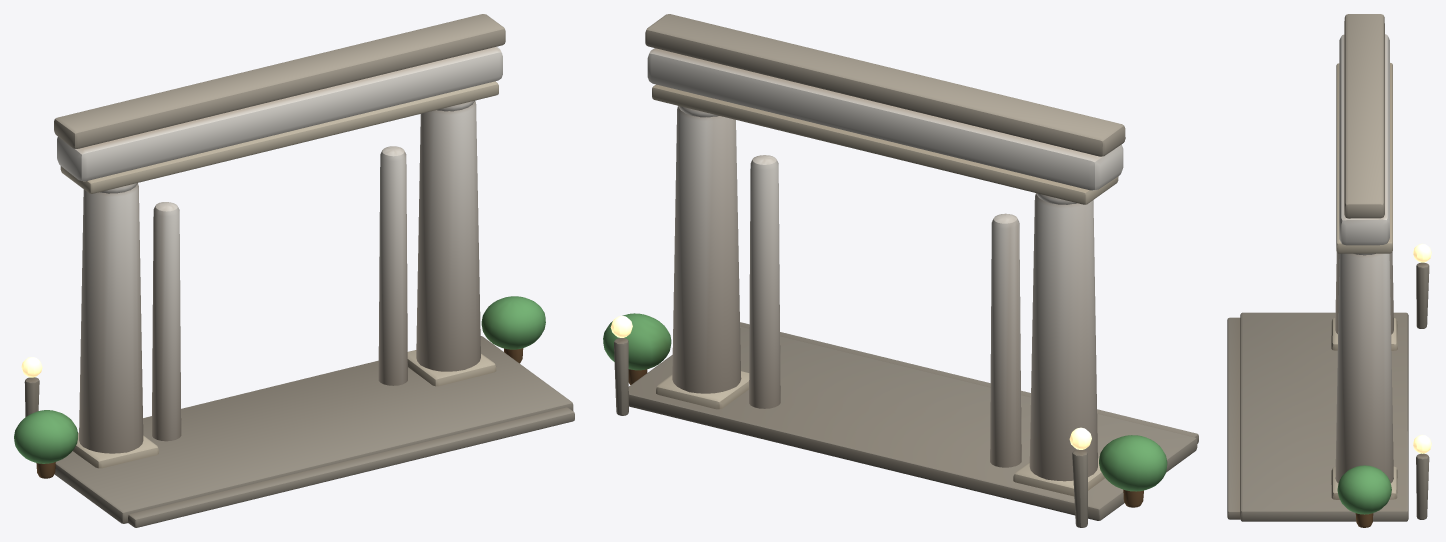
3 views of the same model, side by side, from view 1: azimuth 30°, elevation 25°; view 2: azimuth 150°, elevation 25°; view 3: azimuth 270°, elevation 25° (orthographic). The views are drawn at different scales.
Parts seen in each view (by area): view 1: gate_90c4256e; view 2: gate_90c4256e; view 3: gate_90c4256e.
Part boxes in pixels (box(x1,y1,x2,y2)): gate_90c4256e: box(14, 14, 574, 527); gate_90c4256e: box(603, 14, 1198, 527); gate_90c4256e: box(1227, 14, 1431, 527).
Size of the model in its own units: 6.85 by 4.34 by 2.55.
